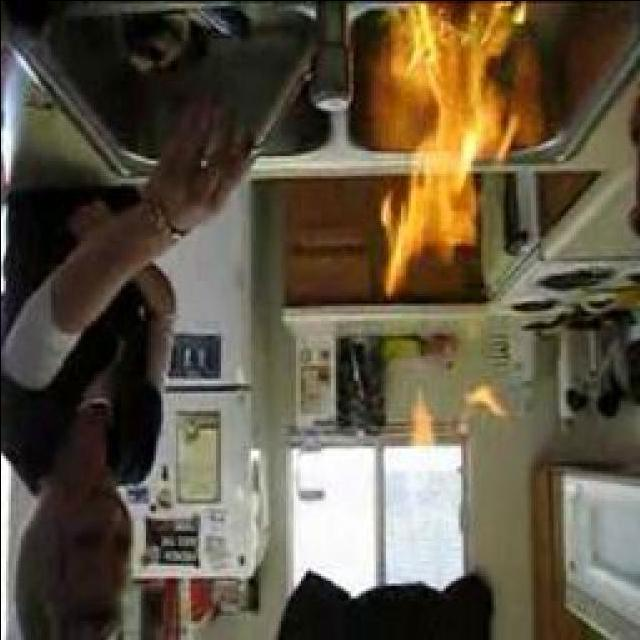Fire: (368, 0, 520, 299), (393, 372, 512, 456)
